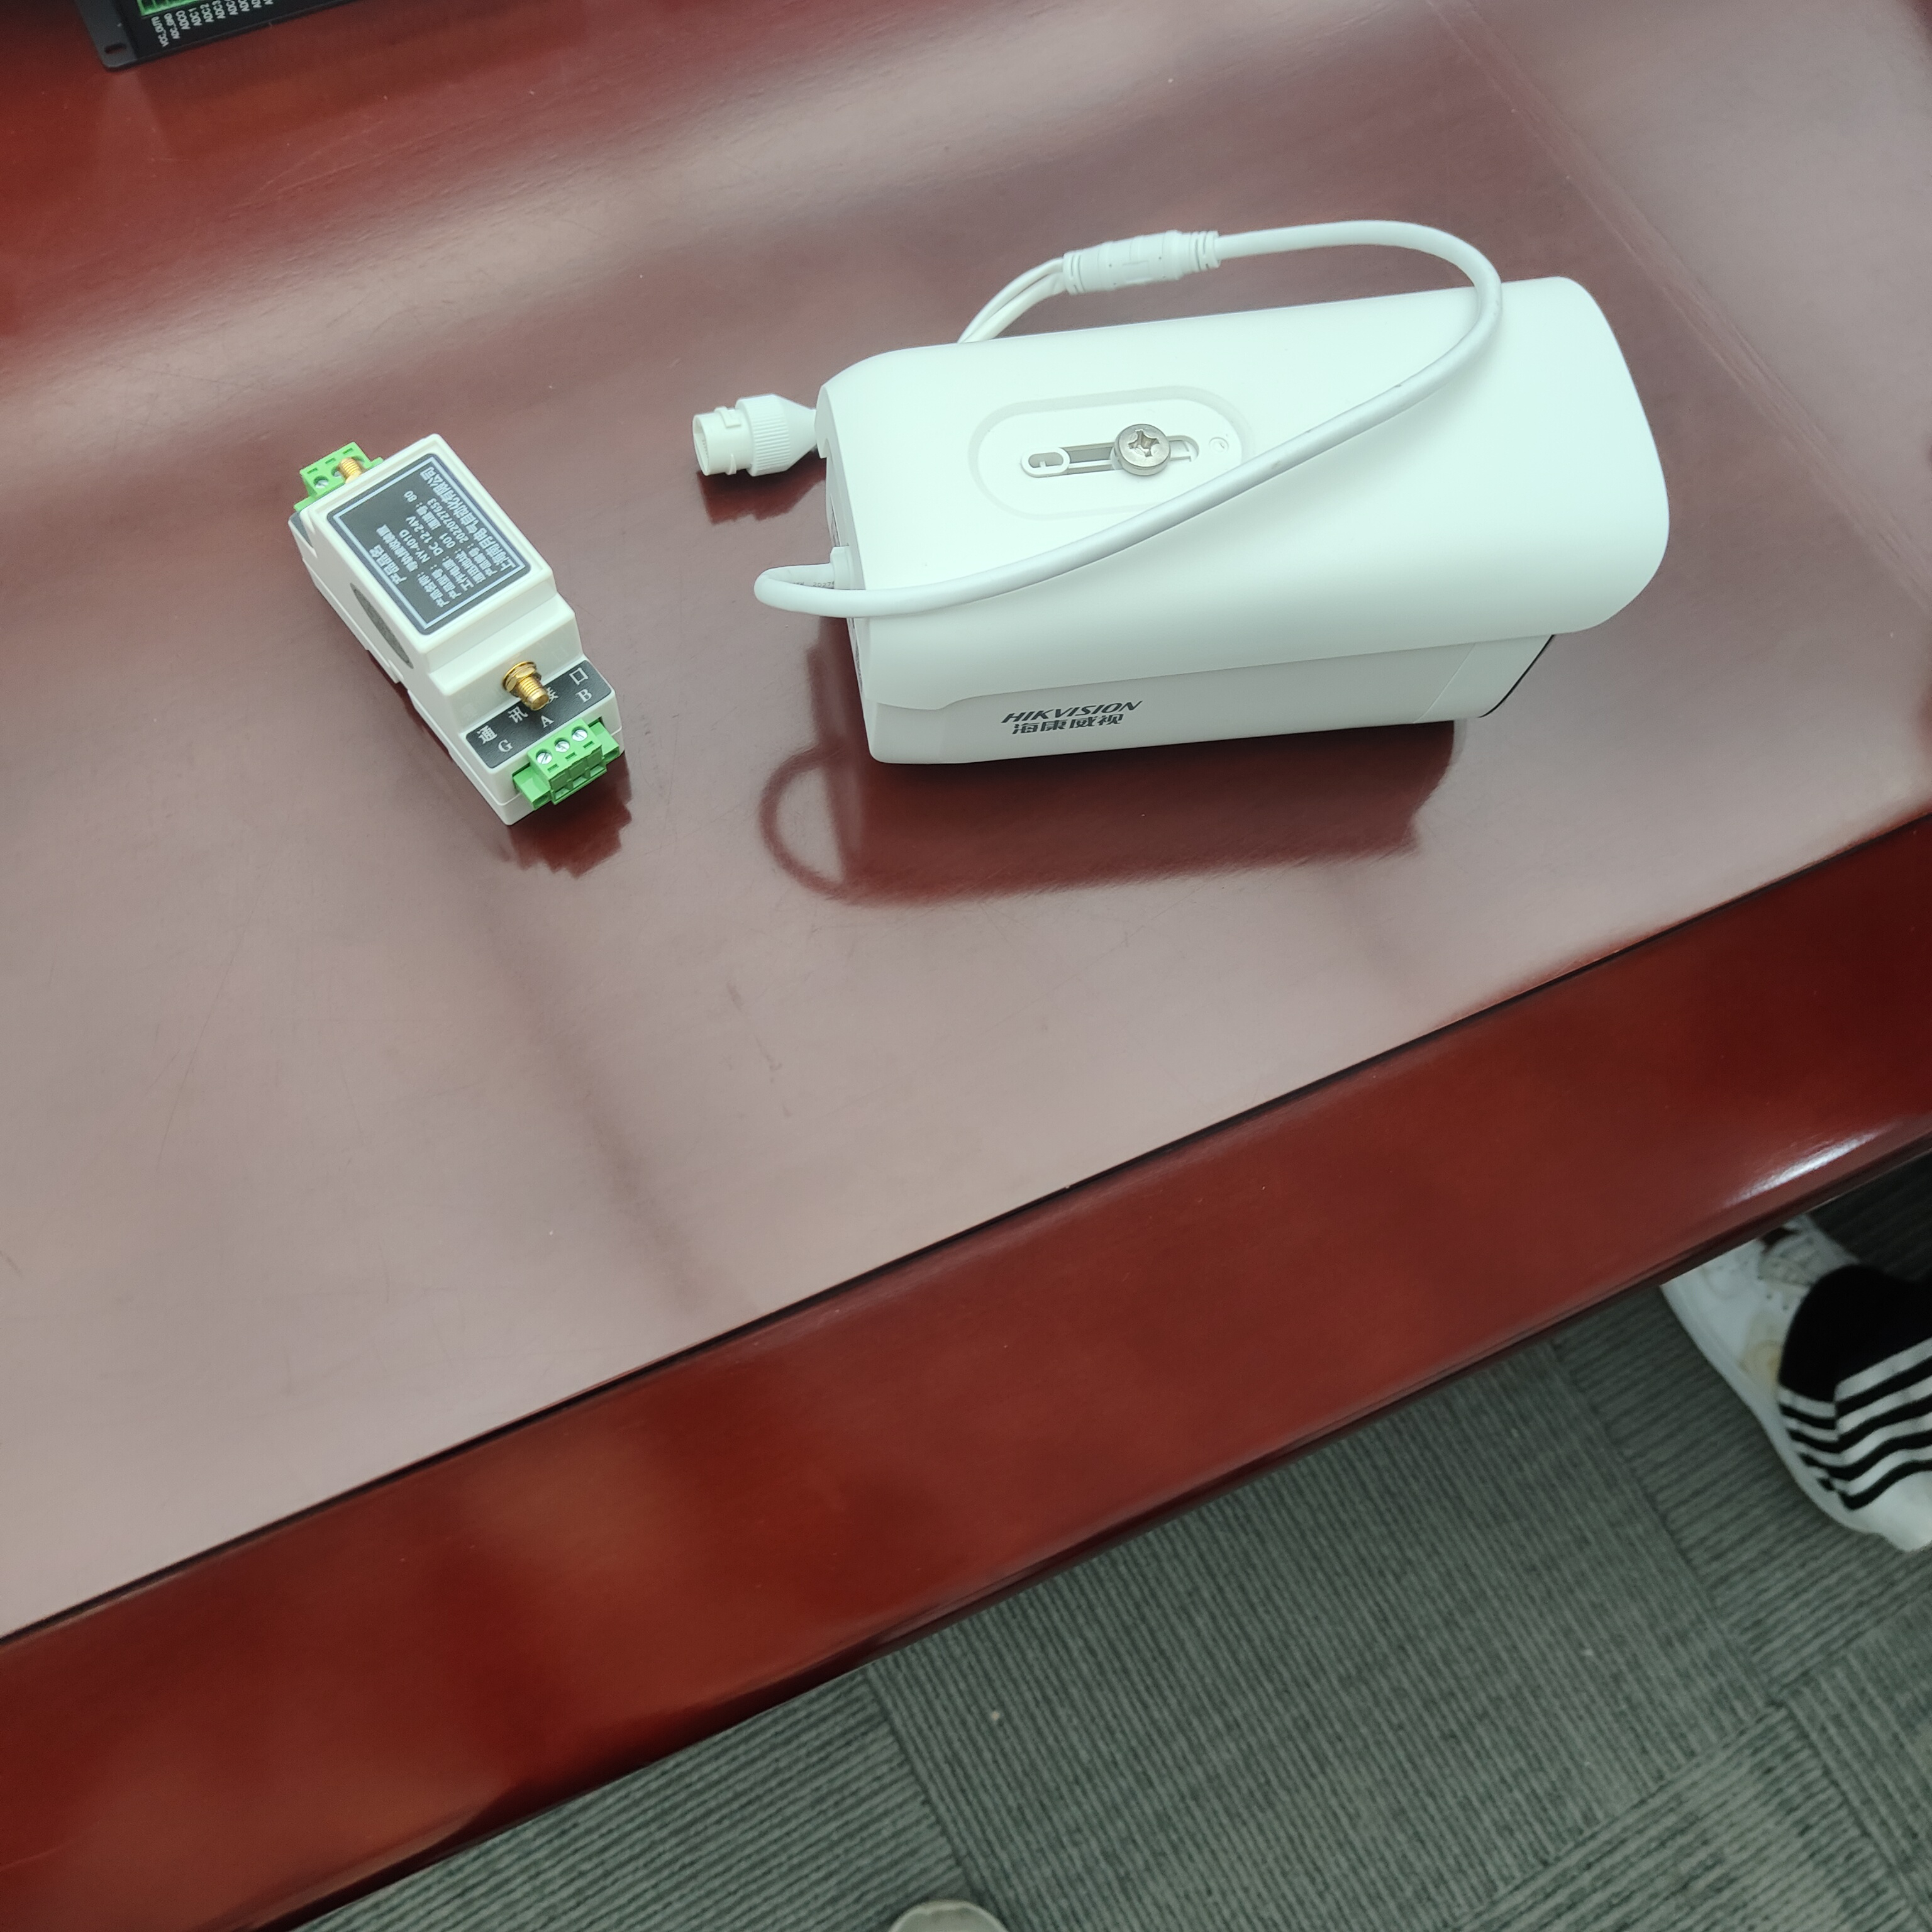dgjs: (262, 398, 646, 890)
hkws: (773, 189, 1665, 874)
